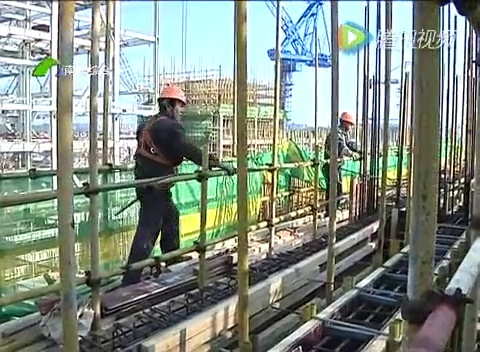yellow: (155, 84, 187, 119), (337, 108, 354, 129)
